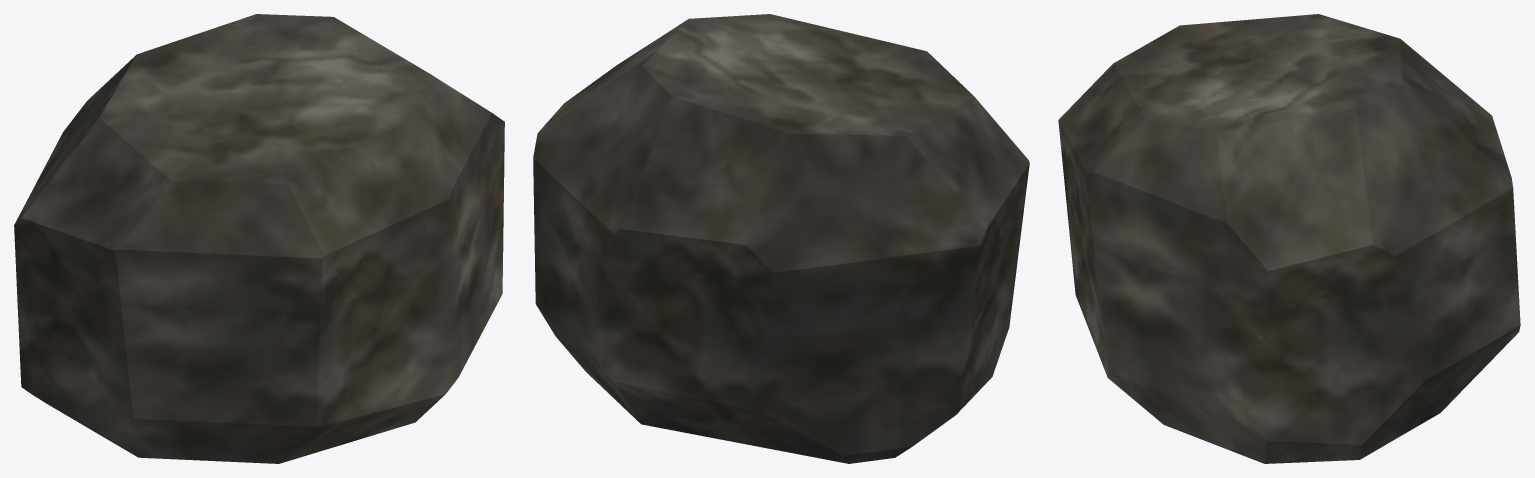
The model's file is Rocha-05-Arredondada.glb.
3 renders of one model, left to right at view 1: azimuth 30°, elevation 25°; view 2: azimuth 150°, elevation 25°; view 3: azimuth 270°, elevation 25°, orthographic. The views are drawn at different scales.
Parts seen in each view (by area): view 1: Pedra arredondada; view 2: Pedra arredondada; view 3: Pedra arredondada.
Boxes of the visible parts, x1,y1,x2,y2 form: Pedra arredondada: (14, 14, 504, 463); Pedra arredondada: (533, 14, 1029, 463); Pedra arredondada: (1058, 14, 1520, 463).
Bounding box in the file's own units: 0.6301 × 0.43 × 0.5595.
1 material, 1 textured.
